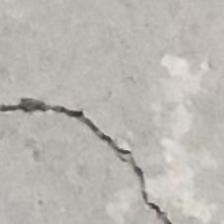Crack: (0, 94, 178, 224)
